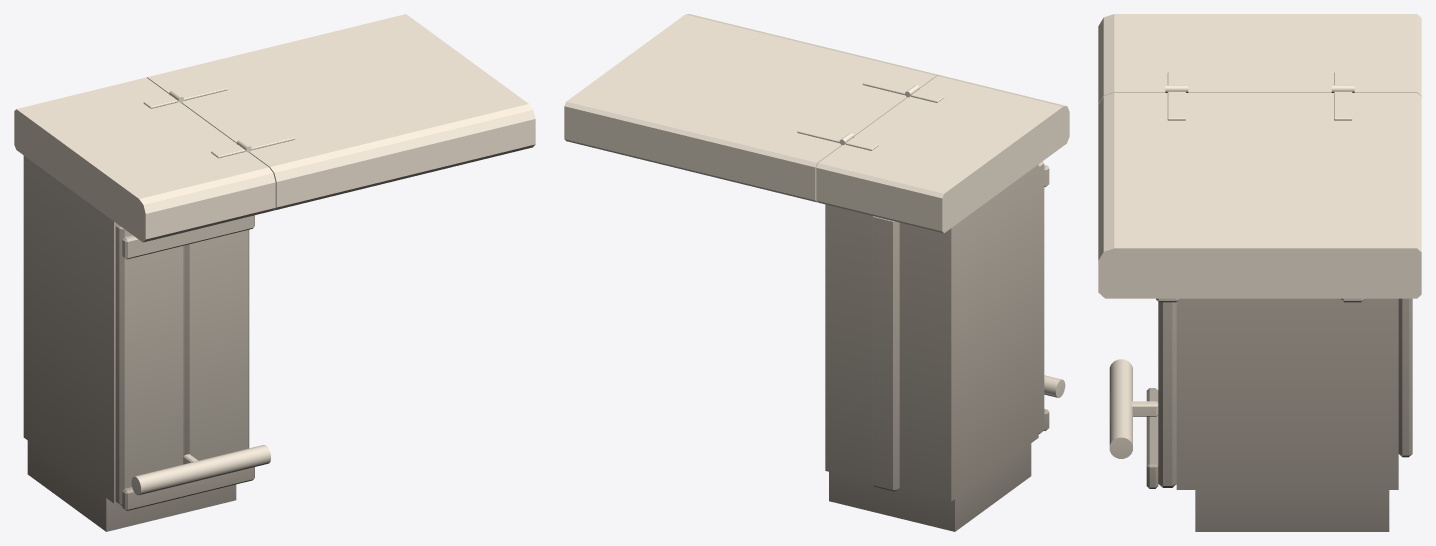
Rendered from SM_VKI_Prop_Bar_End_150.fbx.
3 views of the same model, side by side, from view 1: azimuth 30°, elevation 25°; view 2: azimuth 150°, elevation 25°; view 3: azimuth 270°, elevation 25° (orthographic). The views are drawn at different scales.
Visible parts, largest first — view 1: SM_VKI_Prop_Bar_End_150.001; view 2: SM_VKI_Prop_Bar_End_150.001; view 3: SM_VKI_Prop_Bar_End_150.001.
Part boxes in pixels (box(x1,y1,x2,y2)): SM_VKI_Prop_Bar_End_150.001: box(14, 14, 535, 531); SM_VKI_Prop_Bar_End_150.001: box(564, 14, 1069, 531); SM_VKI_Prop_Bar_End_150.001: box(1098, 14, 1421, 531).
Bounding box in the file's own units: 1.2 × 1.07 × 0.7.
